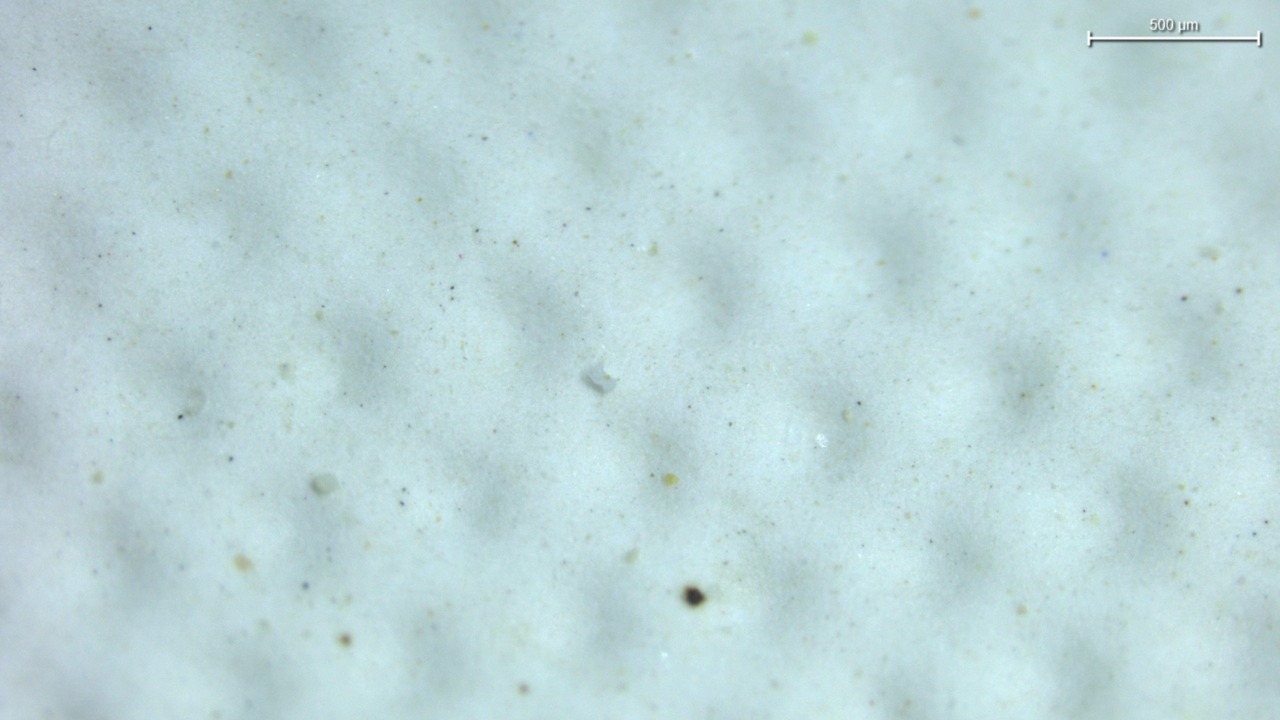microplastic_fragment: (581, 363, 618, 394)
